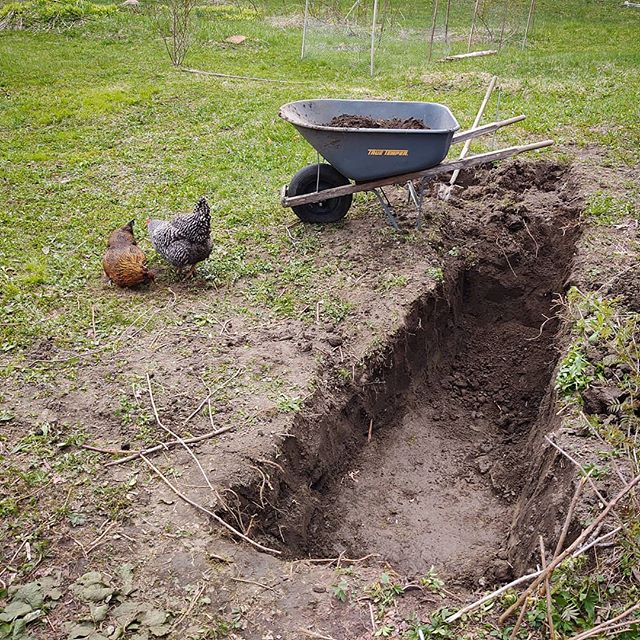animal: (145, 195, 216, 282), (95, 214, 158, 296)
dirt: (38, 195, 605, 640)
grass: (13, 1, 422, 326), (426, 1, 640, 161)
pushcart: (290, 73, 496, 227)
